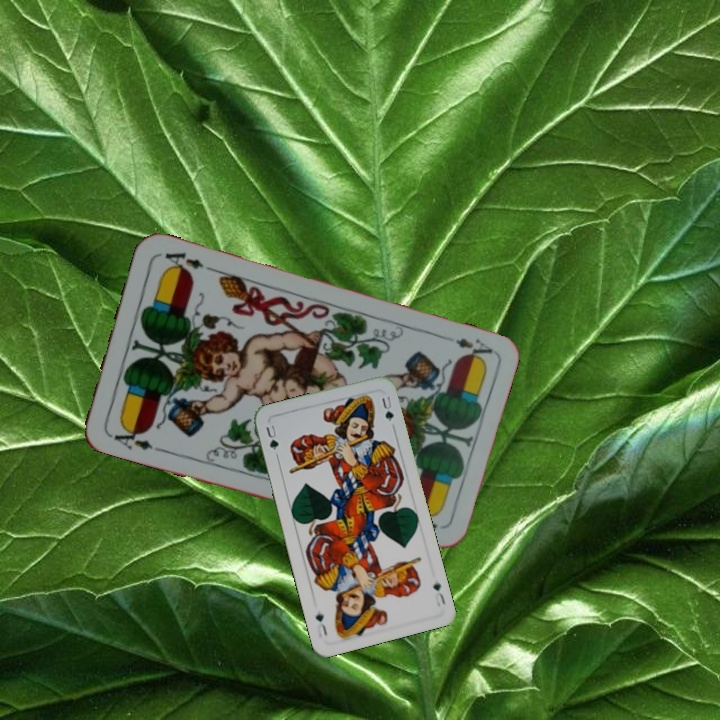EA: (437, 331, 495, 364), (105, 421, 155, 453)
GU: (262, 420, 281, 453), (429, 578, 448, 609)
